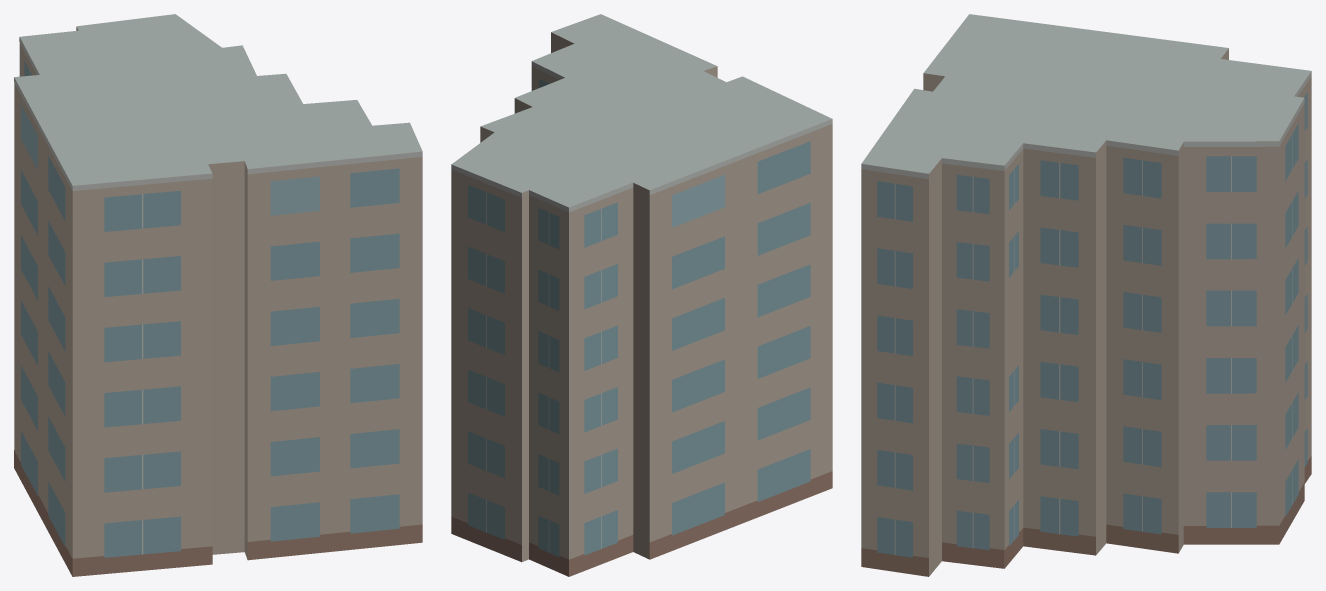
File: survey-upis-32919870.glb
The picture shows the model from 3 angles, left to right: view 1: azimuth 30°, elevation 25°; view 2: azimuth 150°, elevation 25°; view 3: azimuth 270°, elevation 25°; orthographic projection. The views are drawn at different scales.
Visible parts, largest first — view 1: survey-upis-32919870.tmp; view 2: survey-upis-32919870.tmp; view 3: survey-upis-32919870.tmp.
Boxes of the visible parts, x1,y1,x2,y2 form: survey-upis-32919870.tmp: (14, 14, 422, 576); survey-upis-32919870.tmp: (451, 14, 832, 576); survey-upis-32919870.tmp: (861, 14, 1311, 576).
Bounding box in the file's own units: 15.57 × 18.3 × 18.54.
